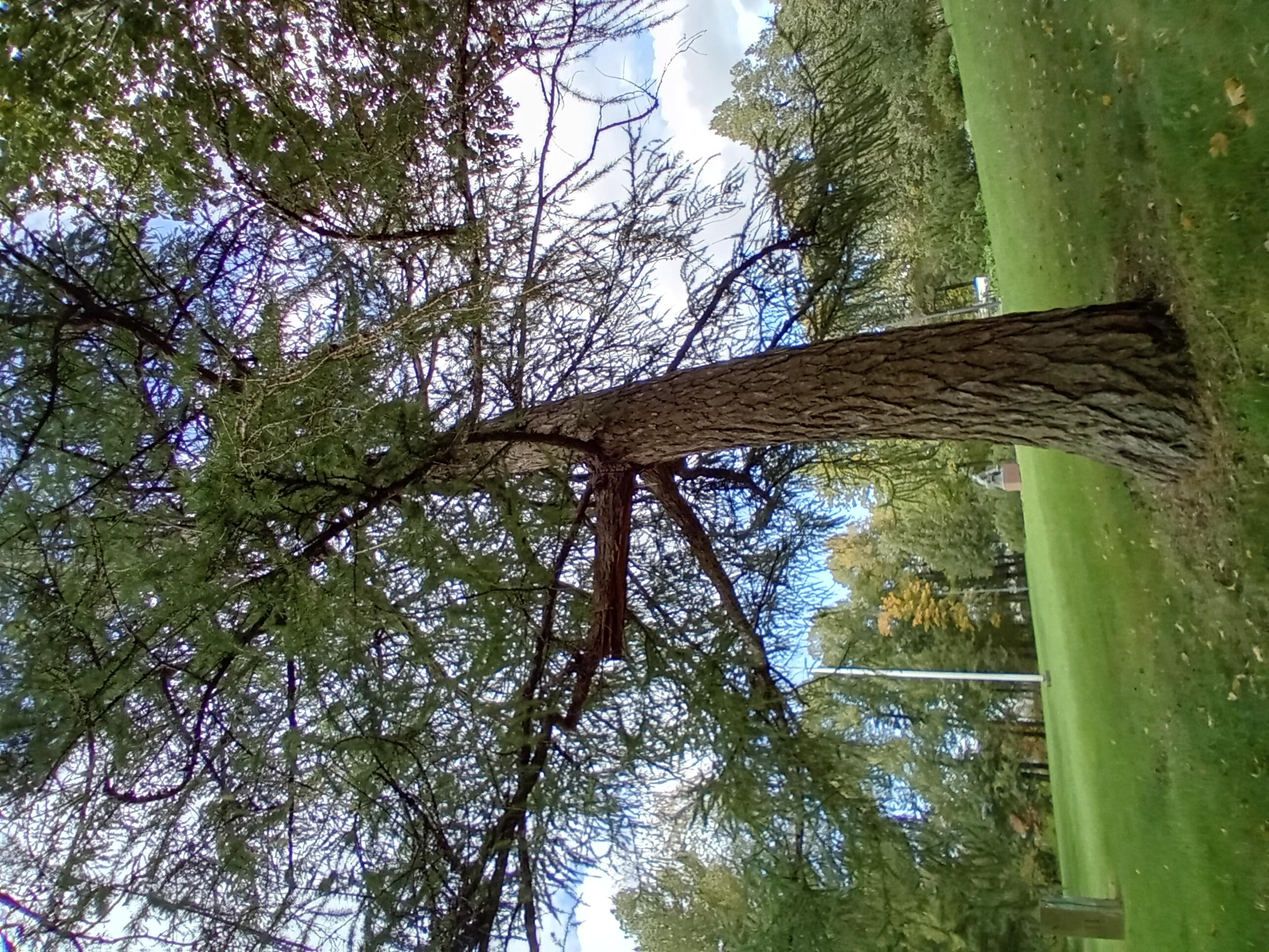Spruce: (1, 1, 1267, 908)
